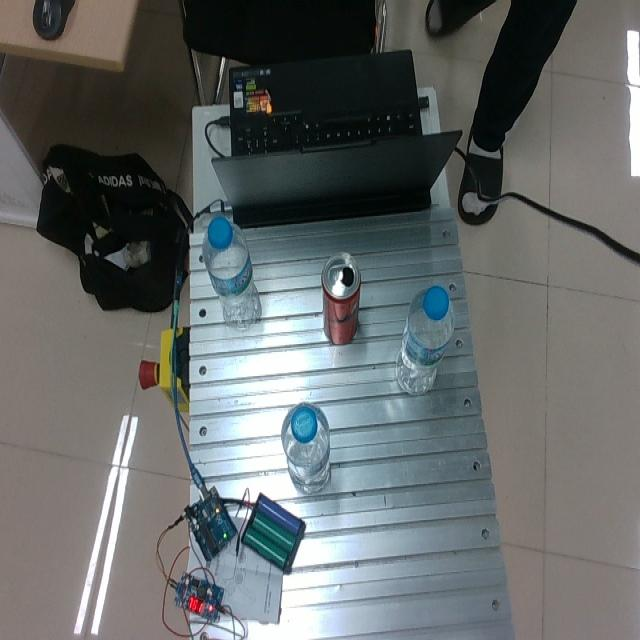coca: (320, 252, 361, 345)
lavie: (394, 284, 456, 396), (202, 215, 260, 329), (281, 401, 331, 492)
